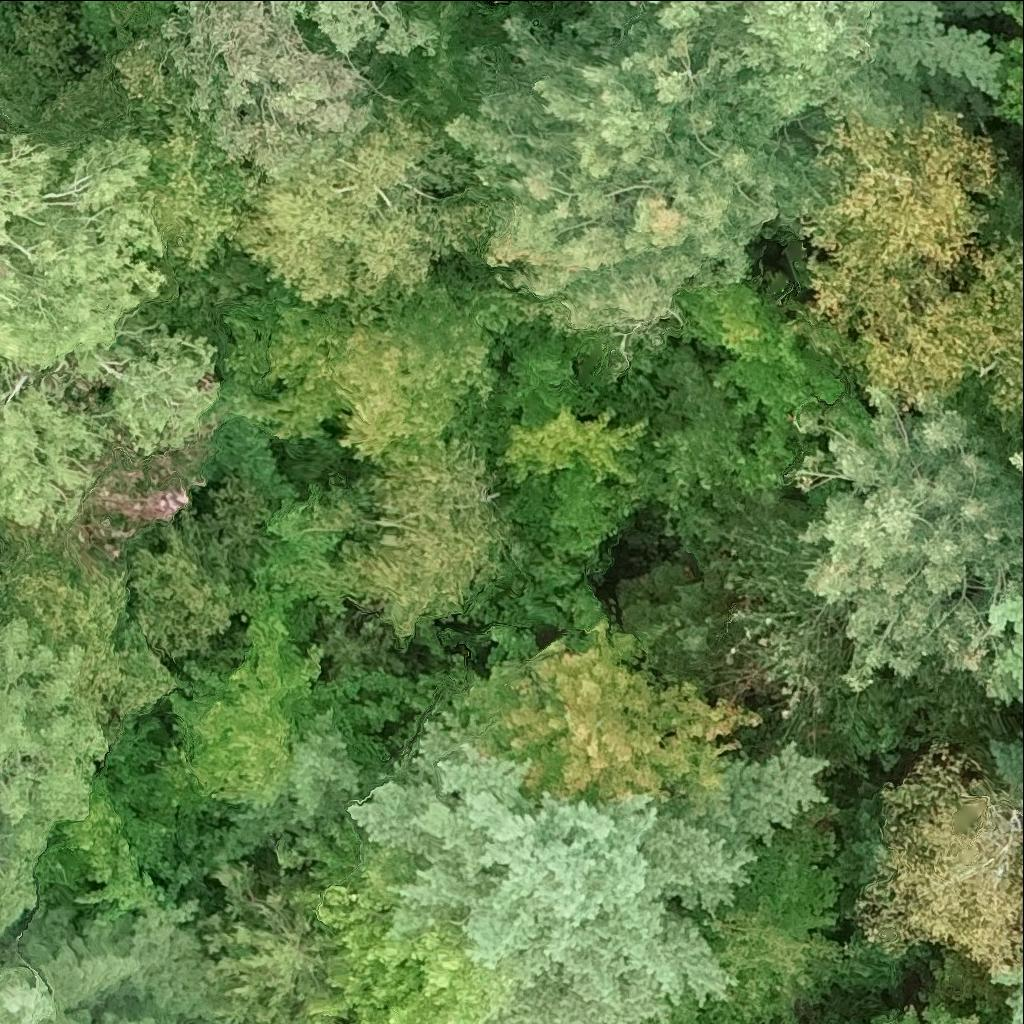crown: (353, 734, 824, 1023), (450, 11, 854, 338), (0, 131, 209, 533), (795, 391, 1023, 703), (454, 602, 758, 812), (245, 275, 547, 468), (0, 550, 169, 882), (664, 798, 905, 1023), (146, 618, 405, 819), (126, 0, 426, 169), (234, 113, 473, 307), (795, 110, 1007, 322), (288, 819, 486, 1023), (859, 743, 1023, 965), (831, 238, 1023, 423), (338, 431, 505, 637), (0, 873, 212, 1023), (686, 0, 909, 135), (195, 871, 352, 1023), (715, 321, 887, 451), (228, 716, 365, 852), (869, 0, 1004, 126), (651, 395, 791, 492), (496, 400, 648, 485), (677, 275, 832, 348), (505, 470, 629, 559), (582, 0, 735, 41), (995, 598, 1023, 693), (996, 33, 1023, 118), (990, 960, 1023, 1023), (888, 1005, 983, 1023), (642, 1021, 654, 1023)
